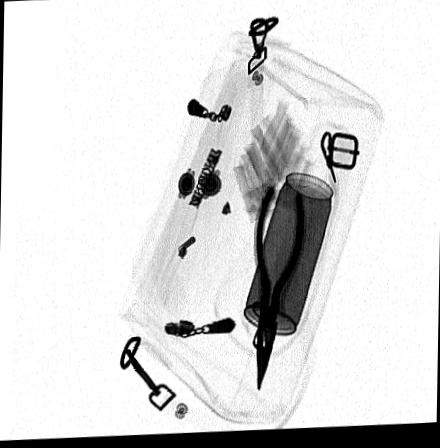Pliers: (254, 182, 305, 395)
